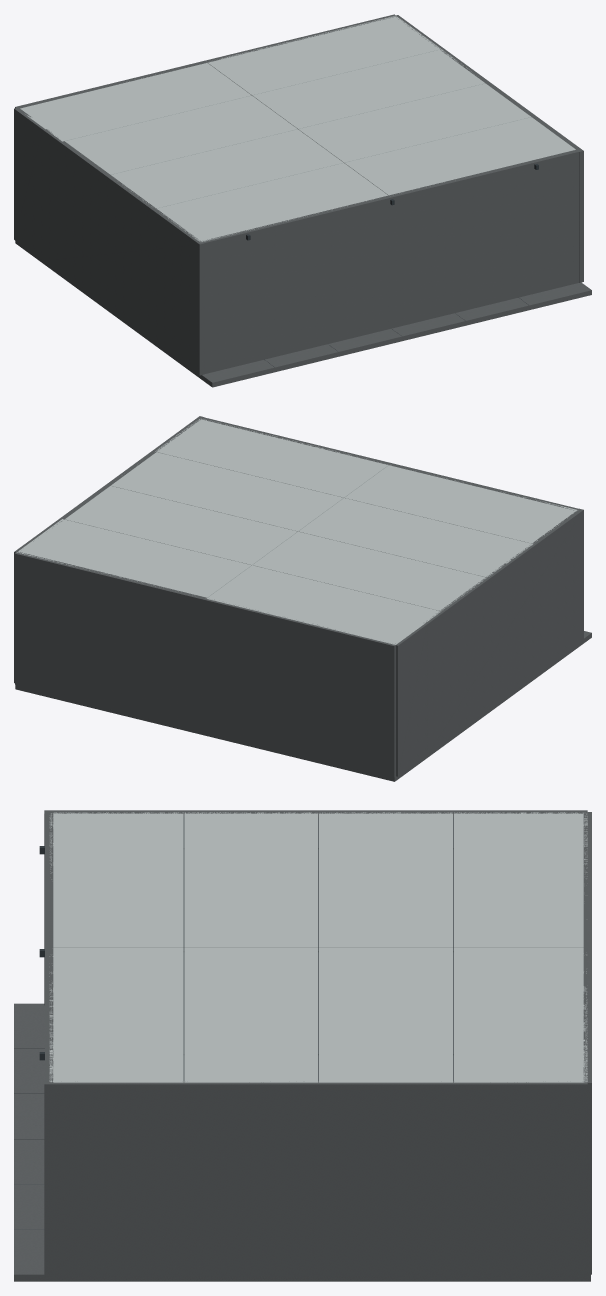
Rendered from tier3.glb.
3 renders of one model, top to bottom at view 1: azimuth 30°, elevation 25°; view 2: azimuth 150°, elevation 25°; view 3: azimuth 270°, elevation 25°, orthographic. The views are drawn at different scales.
Parts seen in each view (by area): view 1: Tier3_Warm_architectural_concrete, Tier3_Pale_ceramic_powdercoat, Tier3_Original_mottled_concrete; view 2: Tier3_Warm_architectural_concrete, Tier3_Pale_ceramic_powdercoat, Tier3_Original_mottled_concrete; view 3: Tier3_Pale_ceramic_powdercoat, Tier3_Warm_architectural_concrete, Tier3_Original_mottled_concrete, Tier3_Graphite_structural_powdercoat.
Boxes of the visible parts, x1,y1,x2,y2 form: Tier3_Warm_architectural_concrete: [14, 14, 583, 375]; Tier3_Pale_ceramic_powdercoat: [20, 16, 575, 241]; Tier3_Original_mottled_concrete: [15, 241, 591, 387]; Tier3_Warm_architectural_concrete: [14, 416, 583, 777]; Tier3_Pale_ceramic_powdercoat: [17, 418, 577, 644]; Tier3_Original_mottled_concrete: [15, 631, 591, 781]; Tier3_Pale_ceramic_powdercoat: [49, 812, 587, 1082]; Tier3_Warm_architectural_concrete: [44, 810, 591, 1276]; Tier3_Original_mottled_concrete: [14, 1003, 590, 1281]; Tier3_Graphite_structural_powdercoat: [39, 817, 453, 1081].
Size of the model in its own units: 20.24 by 6.84 by 18.03.
20 materials, 4 textured.
